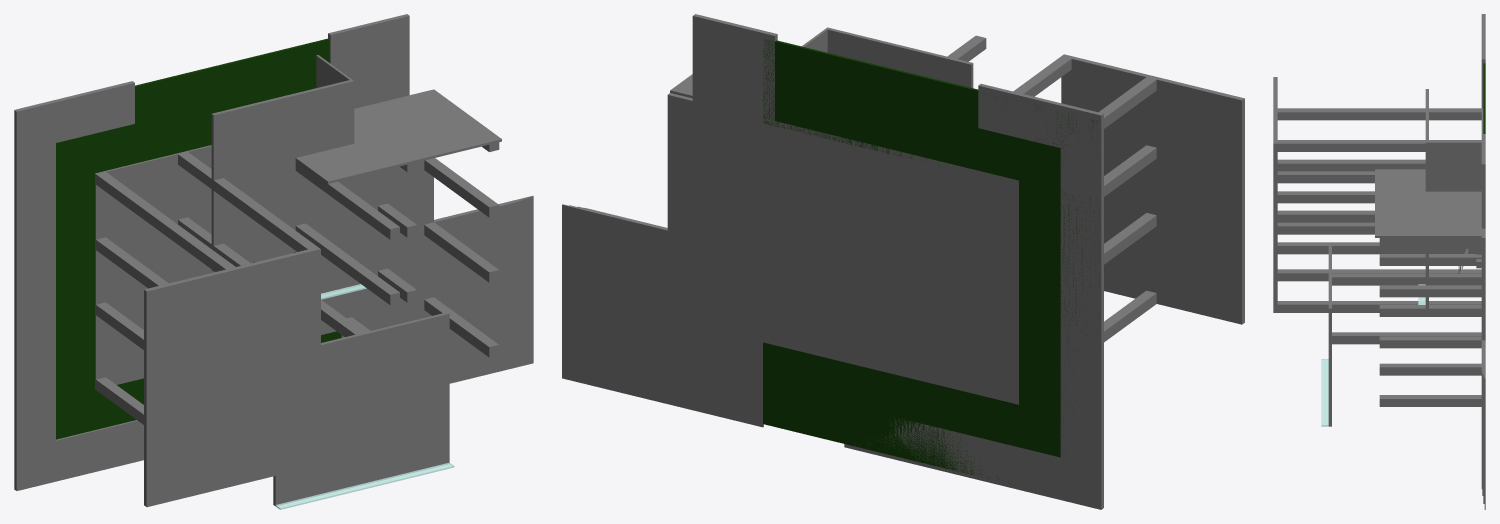
3 views of the same model, side by side, from view 1: azimuth 30°, elevation 25°; view 2: azimuth 150°, elevation 25°; view 3: azimuth 270°, elevation 25° (orthographic). The views are drawn at different scales.
Visible parts, largest first — view 1: Object_45, Grass, Object_8, Object_1, Column, Object_6, Object_49, Object_9, Object_69, Object_7, Object_68, Object_62 (+10 smaller); view 2: Object_1, Grass, Object_50, Object_45, Object_49, Object_69, Object_51, Column, Object_68, Object_61, Object_62, Object_6 (+5 smaller); view 3: Column, Object_9, Object_5, Object_45, Object_8, Object_1, Shsihe, Object_69, Object_52, Object_49, Object_51, Object_6 (+2 smaller).
Boxes of the visible parts, bbox=[...] form: Object_45: bbox=[144, 247, 320, 507]; Grass: bbox=[56, 38, 340, 439]; Object_8: bbox=[273, 312, 449, 506]; Object_1: bbox=[95, 91, 433, 389]; Column: bbox=[96, 142, 499, 424]; Object_6: bbox=[211, 79, 354, 271]; Object_49: bbox=[341, 200, 515, 368]; Object_9: bbox=[295, 89, 501, 183]; Object_69: bbox=[328, 14, 409, 108]; Object_7: bbox=[293, 169, 387, 293]; Object_68: bbox=[14, 100, 55, 201]; Object_62: bbox=[14, 275, 55, 367]; Object_1: bbox=[667, 93, 1018, 404]; Grass: bbox=[763, 39, 1099, 503]; Object_50: bbox=[562, 204, 763, 427]; Object_45: bbox=[1061, 54, 1244, 324]; Object_49: bbox=[582, 208, 762, 405]; Object_69: bbox=[692, 14, 777, 122]; Object_51: bbox=[568, 205, 762, 421]; Column: bbox=[947, 35, 1156, 342]; Object_68: bbox=[1060, 104, 1103, 211]; Object_61: bbox=[1060, 371, 1103, 467]; Object_62: bbox=[1060, 285, 1103, 380]; Object_6: bbox=[827, 28, 973, 87]; Column: bbox=[1277, 108, 1481, 406]; Object_9: bbox=[1375, 169, 1481, 237]; Object_5: bbox=[1425, 141, 1481, 248]; Object_45: bbox=[1273, 77, 1277, 312]; Object_8: bbox=[1328, 242, 1331, 426]; Object_1: bbox=[1481, 108, 1485, 340]; Shsihe: bbox=[1321, 284, 1425, 426]; Object_69: bbox=[1481, 134, 1485, 228]; Object_52: bbox=[1482, 340, 1485, 495]; Object_49: bbox=[1481, 340, 1485, 488]; Object_51: bbox=[1483, 340, 1485, 503]; Object_6: bbox=[1425, 89, 1428, 190].
Size of the model in its own units: 84.04 by 58.42 by 37.78.
